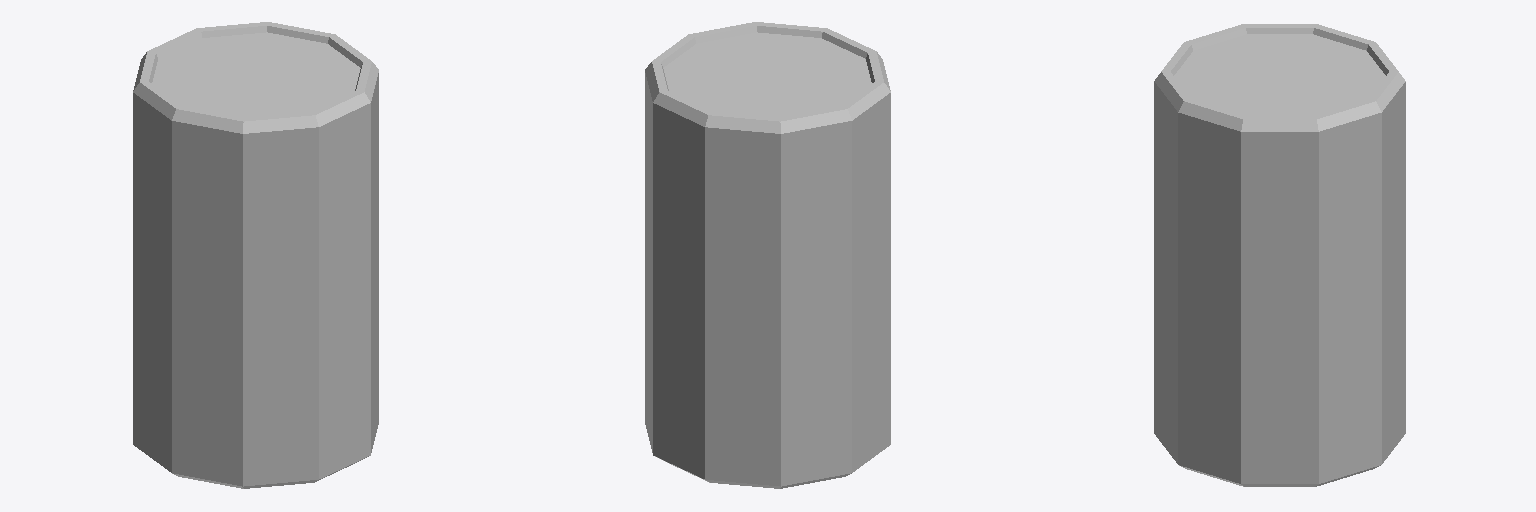
File: drinks_can.obj
The picture shows the model from 3 angles: view 1: azimuth 30°, elevation 25°; view 2: azimuth 150°, elevation 25°; view 3: azimuth 270°, elevation 25°; orthographic projection.
Visible parts, largest first — view 1: drink_can_Cylinder.005; view 2: drink_can_Cylinder.005; view 3: drink_can_Cylinder.005.
Boxes of the visible parts, box(x1,y1,x2,y2) form: drink_can_Cylinder.005: box(133, 22, 378, 488); drink_can_Cylinder.005: box(645, 22, 890, 488); drink_can_Cylinder.005: box(1154, 24, 1405, 486).
Bounding box in the file's own units: 0.2137 × 0.363 × 0.2247.